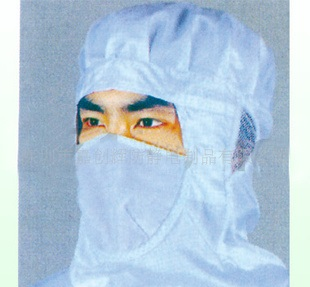face_mask: (70, 76, 185, 224)
